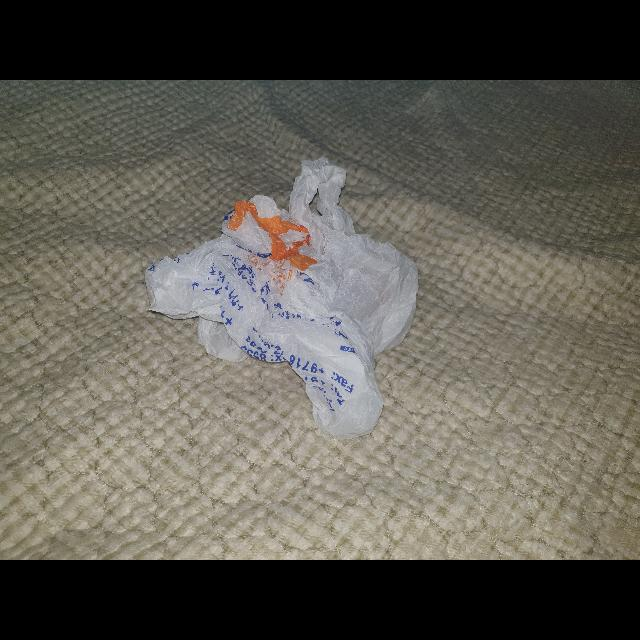plastic_bag: (133, 150, 430, 458)
